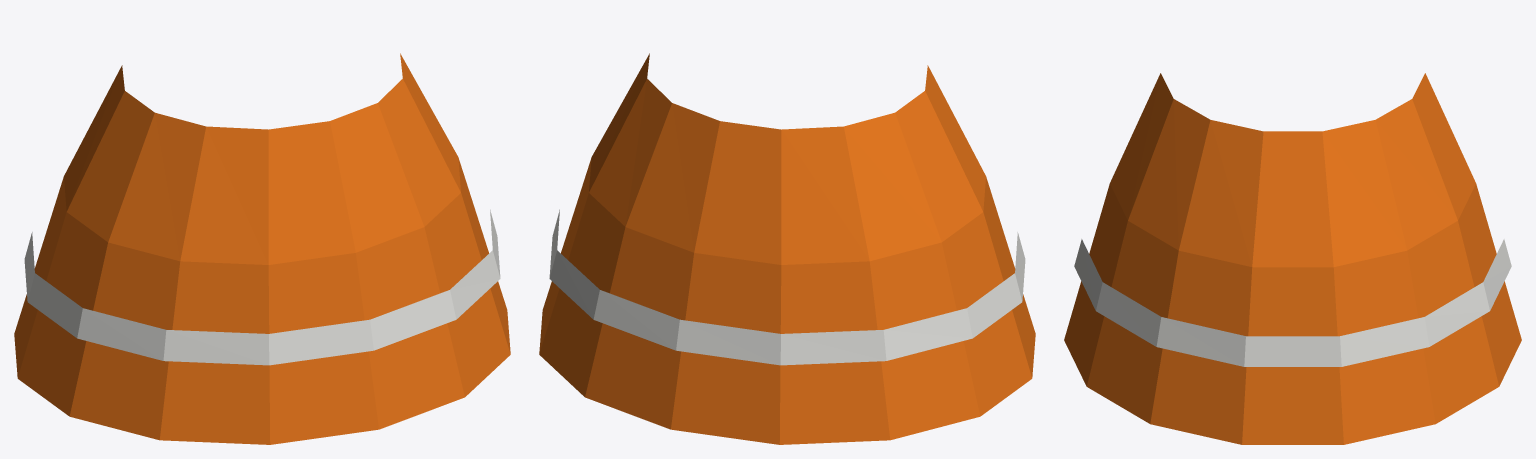
Rendered from prison_vest.glb.
3 views of the same model, side by side, from view 1: azimuth 30°, elevation 25°; view 2: azimuth 150°, elevation 25°; view 3: azimuth 270°, elevation 25° (orthographic).
Parts seen in each view (by area): view 1: vest_vest_orange, stripe_vest_white; view 2: vest_vest_orange, stripe_vest_white; view 3: vest_vest_orange, stripe_vest_white.
Boxes of the visible parts, box(x1,y1,x2,y2) form: vest_vest_orange: box(14, 53, 510, 444); stripe_vest_white: box(24, 209, 500, 365); vest_vest_orange: box(539, 53, 1035, 444); stripe_vest_white: box(549, 209, 1025, 365); vest_vest_orange: box(1064, 73, 1521, 444); stripe_vest_white: box(1074, 239, 1511, 366).
Bounding box in the file's own units: 0.9749 × 0.58 × 0.9.
